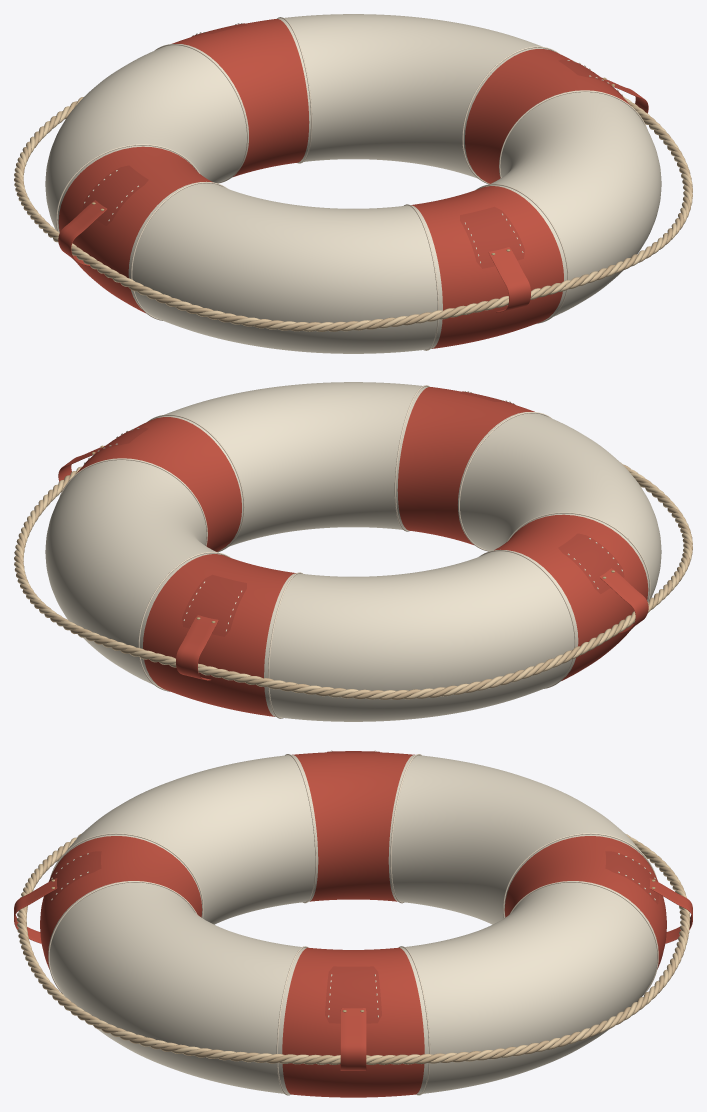
The model's file is lifebuoy-v4.glb.
The picture shows the model from 3 angles, top to bottom: view 1: azimuth 30°, elevation 25°; view 2: azimuth 150°, elevation 25°; view 3: azimuth 270°, elevation 25°; orthographic projection.
Visible parts, largest first — view 1: Buoy | continuous coated body.001, Grab line | strand 3.001, Grab line | strand 2.001, Grab line | strand 1.001, Keeper | sewn reinforcement 4.001, Keeper | sewn reinforcement 3.001, Rope keeper | 4.001, Rope keeper | 3.001; view 2: Buoy | continuous coated body.001, Grab line | strand 2.001, Grab line | strand 3.001, Grab line | strand 1.001, Keeper | sewn reinforcement 2.001, Keeper | sewn reinforcement 3.001, Rope keeper | 2.001, Rope keeper | 3.001; view 3: Buoy | continuous coated body.001, Grab line | strand 3.001, Grab line | strand 2.001, Grab line | strand 1.001, Keeper | sewn reinforcement 1.001, Rope keeper | 1.001, Keeper | sewn reinforcement 2.001, Keeper | sewn reinforcement 4.001, Rope keeper | 4.001, Rope keeper | 2.001.
Part boxes in pixels (x1=…): Buoy | continuous coated body.001: x1=45, y1=14, x2=661, y2=353; Grab line | strand 3.001: x1=14, y1=98, x2=692, y2=331; Grab line | strand 2.001: x1=14, y1=96, x2=692, y2=331; Grab line | strand 1.001: x1=14, y1=101, x2=692, y2=331; Keeper | sewn reinforcement 4.001: x1=460, y1=206, x2=524, y2=268; Keeper | sewn reinforcement 3.001: x1=82, y1=165, x2=148, y2=225; Rope keeper | 4.001: x1=488, y1=247, x2=530, y2=312; Rope keeper | 3.001: x1=58, y1=200, x2=106, y2=266; Buoy | continuous coated body.001: x1=45, y1=382, x2=661, y2=721; Grab line | strand 2.001: x1=14, y1=468, x2=692, y2=699; Grab line | strand 3.001: x1=14, y1=462, x2=692, y2=699; Grab line | strand 1.001: x1=14, y1=464, x2=692, y2=699; Keeper | sewn reinforcement 2.001: x1=182, y1=574, x2=246, y2=636; Keeper | sewn reinforcement 3.001: x1=558, y1=533, x2=624, y2=594; Rope keeper | 2.001: x1=176, y1=615, x2=218, y2=680; Rope keeper | 3.001: x1=600, y1=568, x2=648, y2=633; Buoy | continuous coated body.001: x1=40, y1=752, x2=666, y2=1097; Grab line | strand 3.001: x1=17, y1=837, x2=689, y2=1064; Grab line | strand 2.001: x1=17, y1=834, x2=689, y2=1064; Grab line | strand 1.001: x1=17, y1=834, x2=690, y2=1064; Keeper | sewn reinforcement 1.001: x1=325, y1=966, x2=381, y2=1023; Rope keeper | 1.001: x1=340, y1=1008, x2=366, y2=1070; Keeper | sewn reinforcement 2.001: x1=605, y1=851, x2=658, y2=904; Keeper | sewn reinforcement 4.001: x1=48, y1=851, x2=101, y2=904; Rope keeper | 4.001: x1=14, y1=878, x2=57, y2=943; Rope keeper | 2.001: x1=649, y1=878, x2=692, y2=943.
Bounding box in the file's own units: 1.16 × 0.2525 × 1.16.
